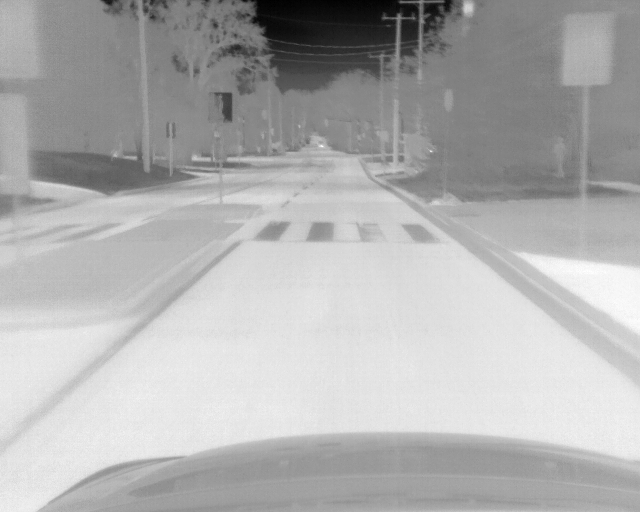people: (550, 136, 568, 180)
